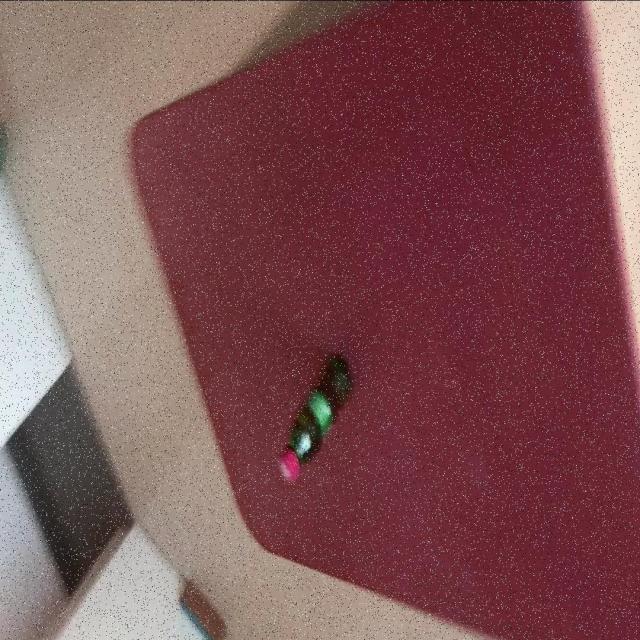Guarana: (276, 352, 353, 482), (276, 386, 334, 480)
